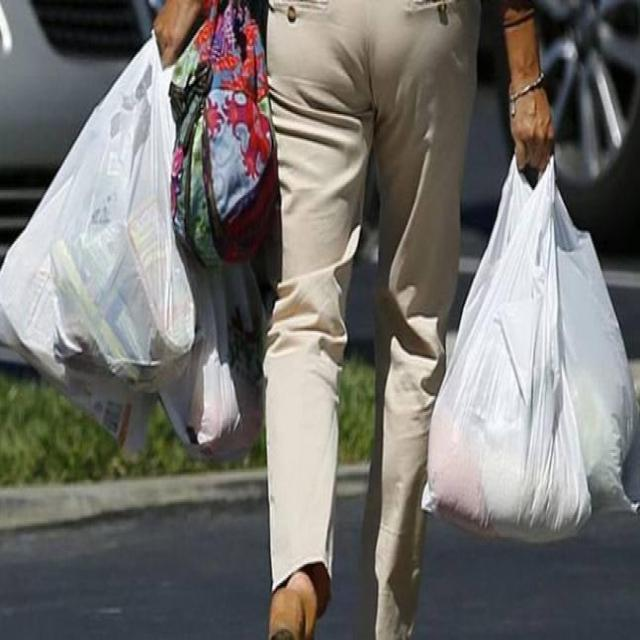plastic_bag: (396, 126, 597, 571), (1, 18, 204, 402), (543, 173, 640, 531), (171, 1, 292, 278), (160, 267, 295, 483)
